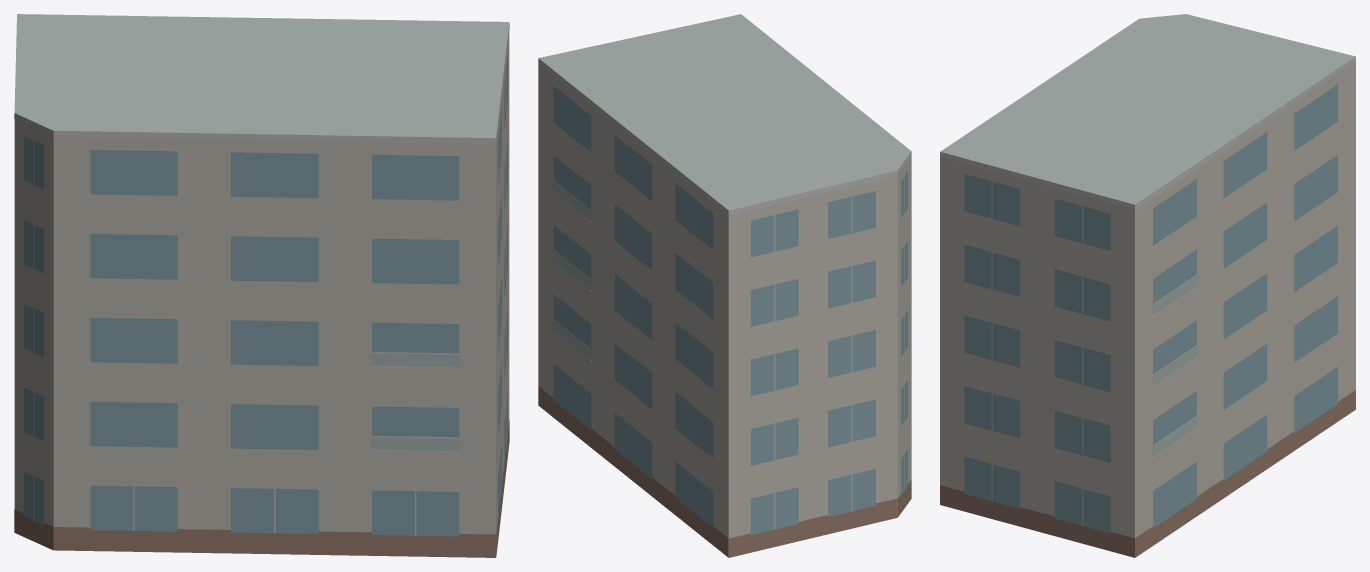
Rendered from survey-upis-32788651.glb.
3 renders of one model, left to right at view 1: azimuth 30°, elevation 25°; view 2: azimuth 150°, elevation 25°; view 3: azimuth 270°, elevation 25°, orthographic. The views are drawn at different scales.
Visible parts, largest first — view 1: survey-upis-32788651.tmp; view 2: survey-upis-32788651.tmp; view 3: survey-upis-32788651.tmp.
Boxes of the visible parts, x1,y1,x2,y2 form: survey-upis-32788651.tmp: (14, 14, 509, 557); survey-upis-32788651.tmp: (538, 14, 911, 557); survey-upis-32788651.tmp: (940, 14, 1355, 557).
Bounding box in the file's own units: 18.89 × 16.3 × 17.4.
